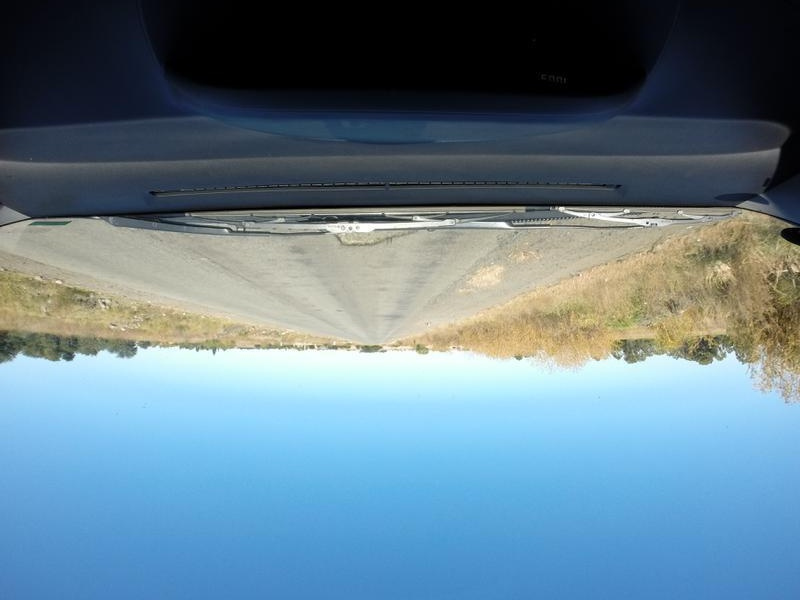pothole: (325, 232, 427, 243)
